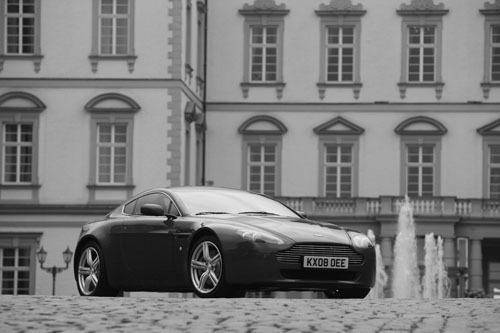car: (70, 179, 388, 305)
